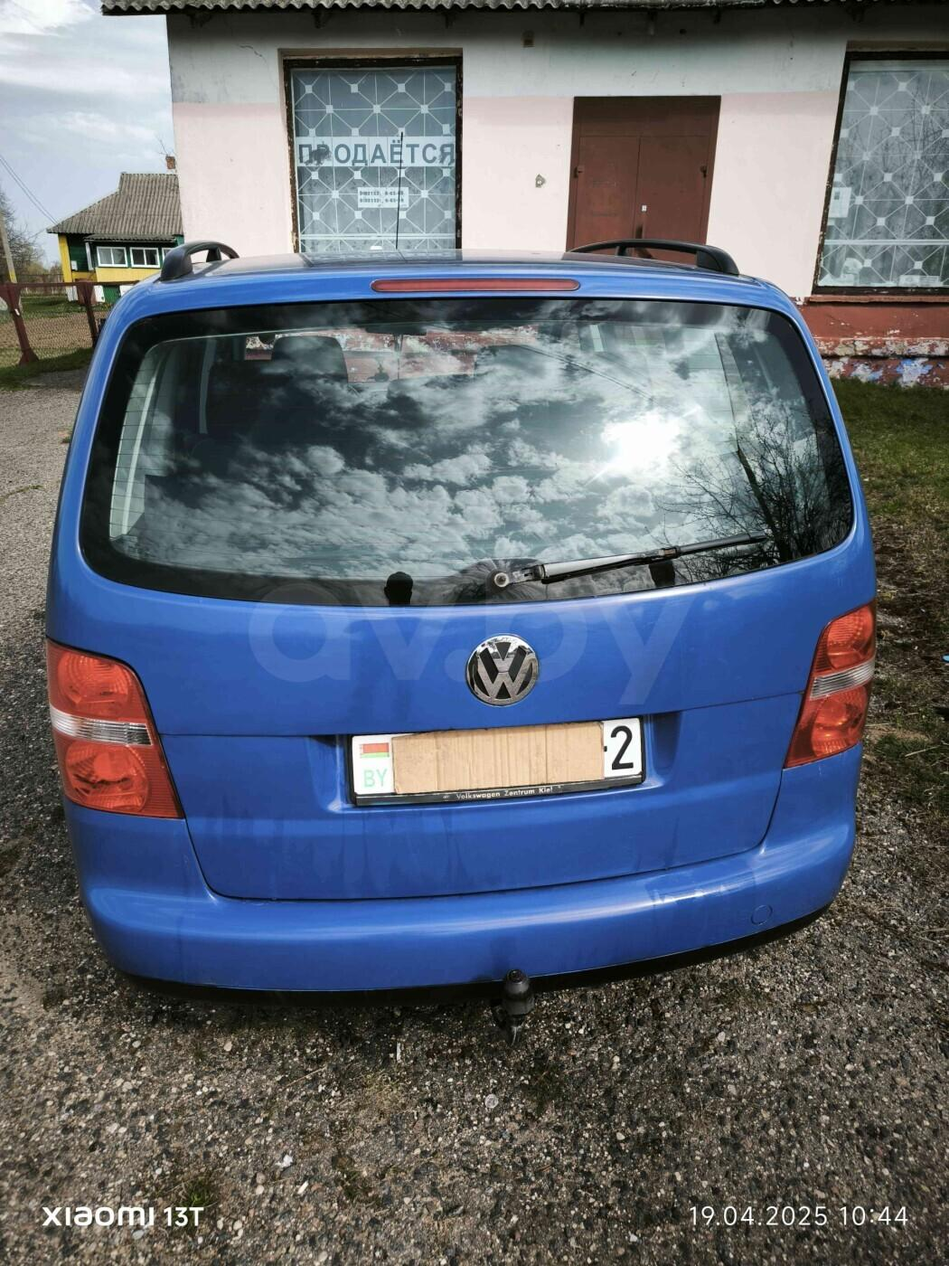Touran_2003-2006: (51, 230, 871, 1029)
